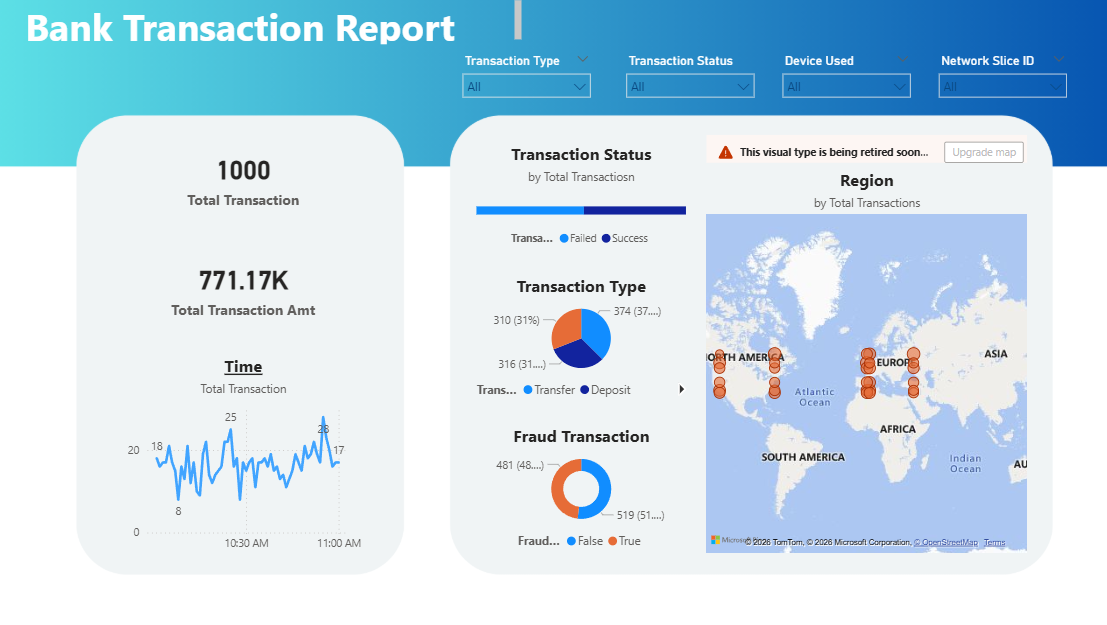

The dashboard page shown, as its layout file describes it:
{"tool":"powerbi","page":{"name":"Transaction Report","canvas":[1280,720],"ordinal":0},"visuals":[{"type":"card","fields":{"Values":["bank transaction_data.Total Transactiosn"]},"box":[142.4,159.3,279.9,98.9],"z":0},{"type":"card","fields":{"Values":["bank transaction_data.Total Transaction Amt"]},"box":[142.4,275.1,279.9,117],"z":1000},{"type":"lineChart","title":"Time","fields":{"Y":["bank transaction_data.Total Transactiosn"],"Category":["bank transaction_data.Transaction Time"]},"box":[142.4,410.2,279.9,232.8],"z":2000},{"type":"barChart","title":"Transaction Status","fields":{"Y":["bank transaction_data.Total Transactiosn"],"Series":["bank transaction_data.Transaction Status"]},"box":[544.1,167.5,249.4,128.4],"z":3000},{"type":"pieChart","title":"Transaction Type","fields":{"Category":["bank transaction_data.Transaction Type"],"Y":["bank transaction_data.Total Transactiosn"]},"box":[544.1,317.9,249.4,150.4],"z":4000},{"type":"donutChart","title":"Fraud Transaction","fields":{"Category":["bank transaction_data.Fraud Flag"],"Y":["bank transaction_data.Total Transactiosn"]},"box":[544.1,490.3,249.4,151.6],"z":5000},{"type":"map","title":"Region","fields":{"Y":["bank transaction_data.Latitude"],"X":["bank transaction_data.Longitude"],"Size":["bank transaction_data.Total Transactiosn"]},"box":[807.1,159.3,376.4,482.6],"z":6000},{"type":"slicer","fields":{"Values":["bank transaction_data.Transaction Type"]},"box":[522.4,60.3,166.5,63.9],"z":7000},{"type":"slicer","fields":{"Values":["bank transaction_data.Transaction Status"]},"box":[710.6,60.3,166.5,63.9],"z":8000},{"type":"slicer","fields":{"Values":["bank transaction_data.Device Used"]},"box":[889.1,60.3,166.5,63.9],"z":9000},{"type":"slicer","fields":{"Values":["bank transaction_data.Network Slice ID"]},"box":[1067.7,60.3,166.5,63.9],"z":10000},{"type":"textbox","box":[29,0,576.7,60.3],"z":11000}]}

Visuals, with their boxes in screenshot pixels (x1, y1, x2, y2), scaled from the page's 1280x720 canvas onto the 1107x625 screenshot:
card - bank transaction_data.Total Transactiosn: {"x1": 123, "y1": 138, "x2": 365, "y2": 224}
card - bank transaction_data.Total Transaction Amt: {"x1": 123, "y1": 239, "x2": 365, "y2": 340}
"Time" lineChart: {"x1": 123, "y1": 356, "x2": 365, "y2": 558}
"Transaction Status" barChart: {"x1": 471, "y1": 145, "x2": 686, "y2": 257}
"Transaction Type" pieChart: {"x1": 471, "y1": 276, "x2": 686, "y2": 407}
"Fraud Transaction" donutChart: {"x1": 471, "y1": 426, "x2": 686, "y2": 557}
"Region" map: {"x1": 698, "y1": 138, "x2": 1024, "y2": 557}
slicer - bank transaction_data.Transaction Type: {"x1": 452, "y1": 52, "x2": 596, "y2": 108}
slicer - bank transaction_data.Transaction Status: {"x1": 615, "y1": 52, "x2": 759, "y2": 108}
slicer - bank transaction_data.Device Used: {"x1": 769, "y1": 52, "x2": 913, "y2": 108}
slicer - bank transaction_data.Network Slice ID: {"x1": 923, "y1": 52, "x2": 1067, "y2": 108}
textbox: {"x1": 25, "y1": 0, "x2": 524, "y2": 52}
